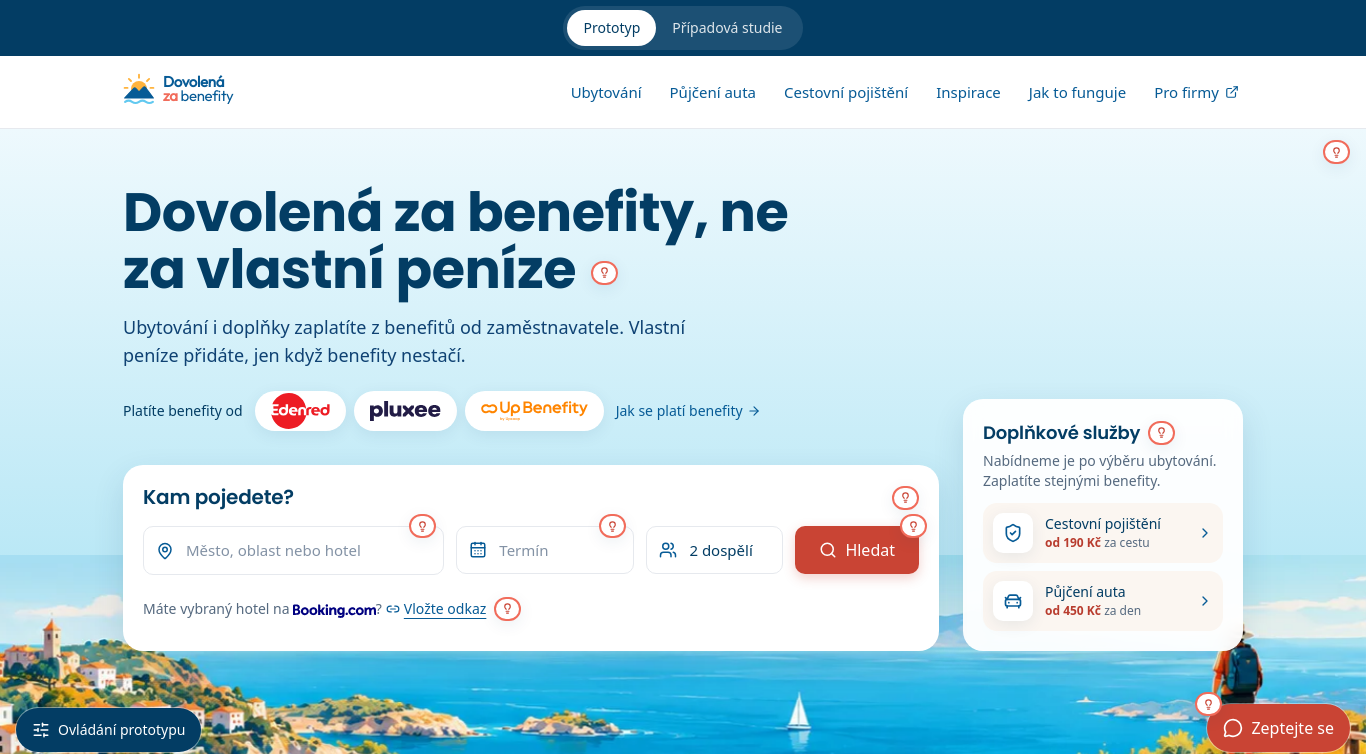
Test: Vyhledávání na úvodní stránce › našeptává hotely podle názvu a pozná vložený odkaz z Booking.com
This screenshot has width=1366, height=754.
Type "zátoka" into the dropdown.
click(309, 551); type("zátoka")  # box [186,527,431,574]
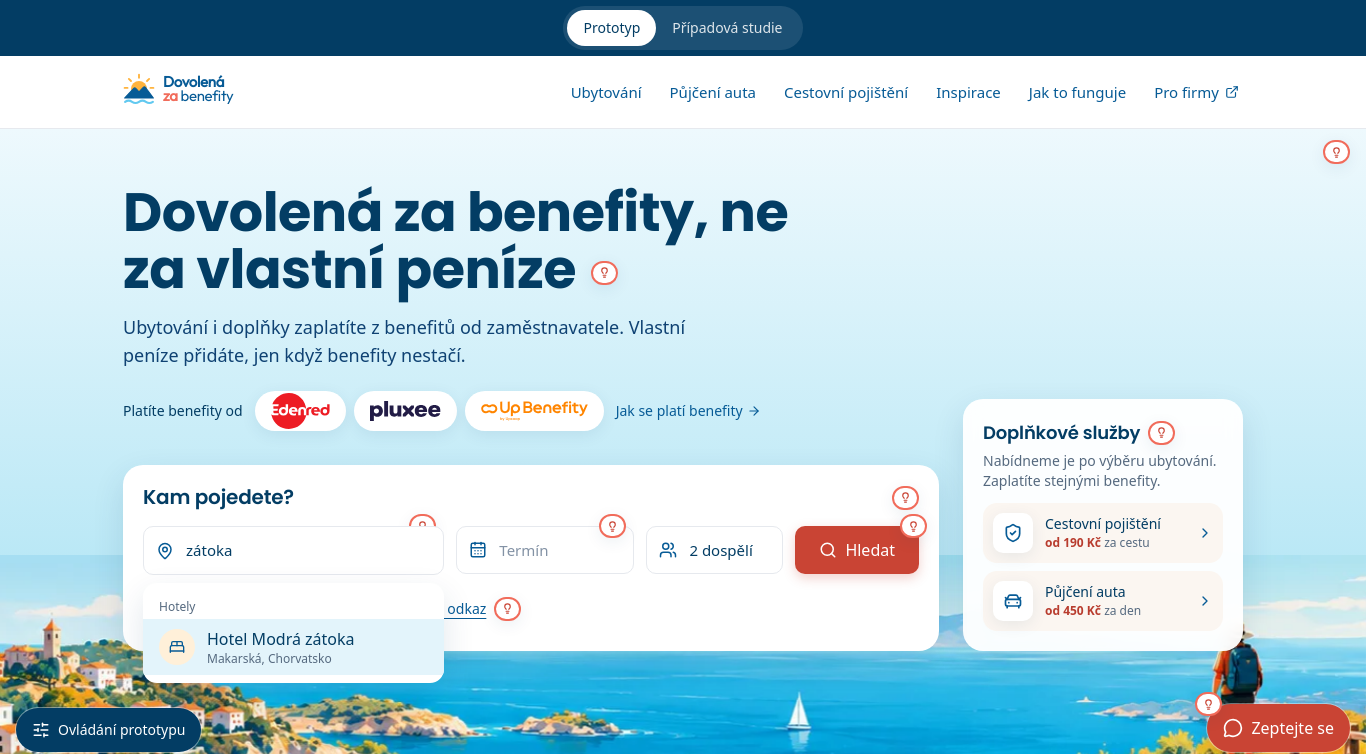
Check: the option "Hotel Modrá zátoka Makarská, Chorvatsko" is shown, box [143,619,444,675]
Replace the text in the dropdown with "https://www.booking.com/hotel/cz/x.html" at (309, 551), box [186,527,431,574]
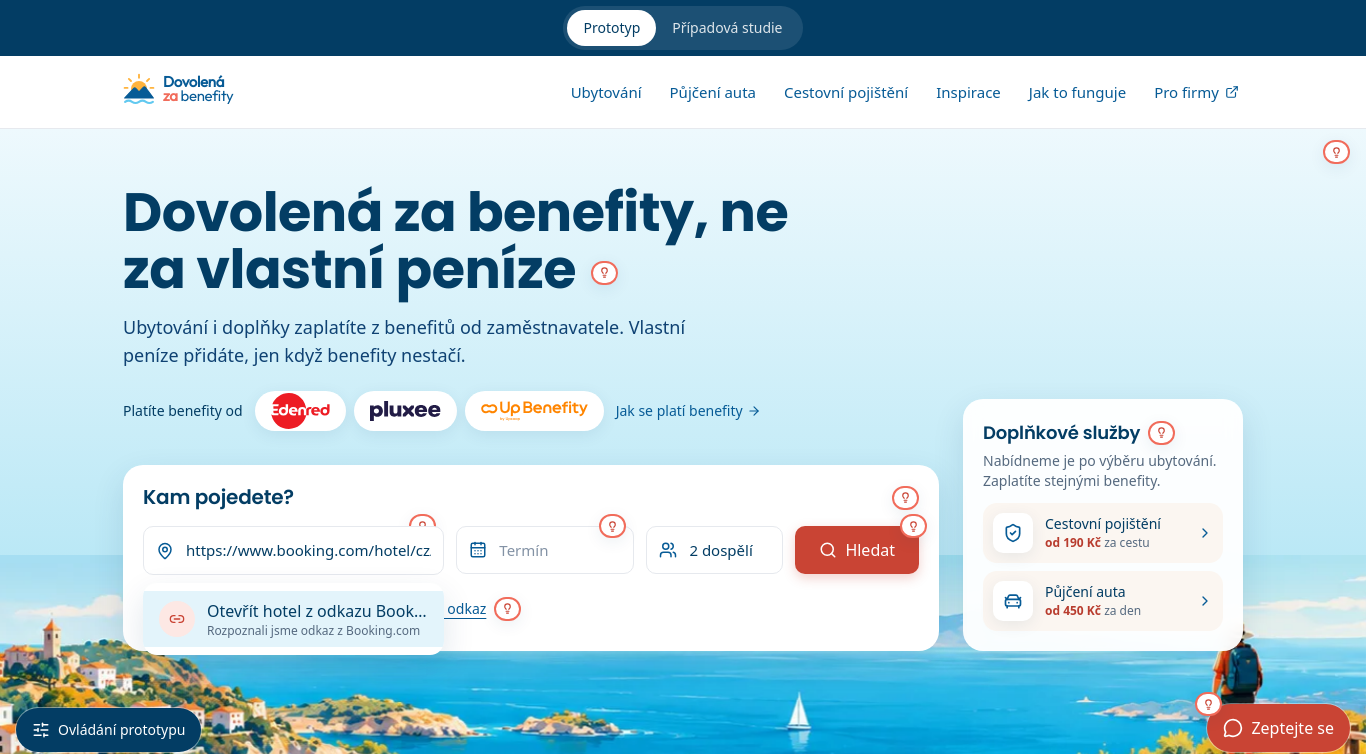
Click the option "Otevřít hotel z odkazu Booking.com".
click(294, 619)  # box [143,591,444,647]
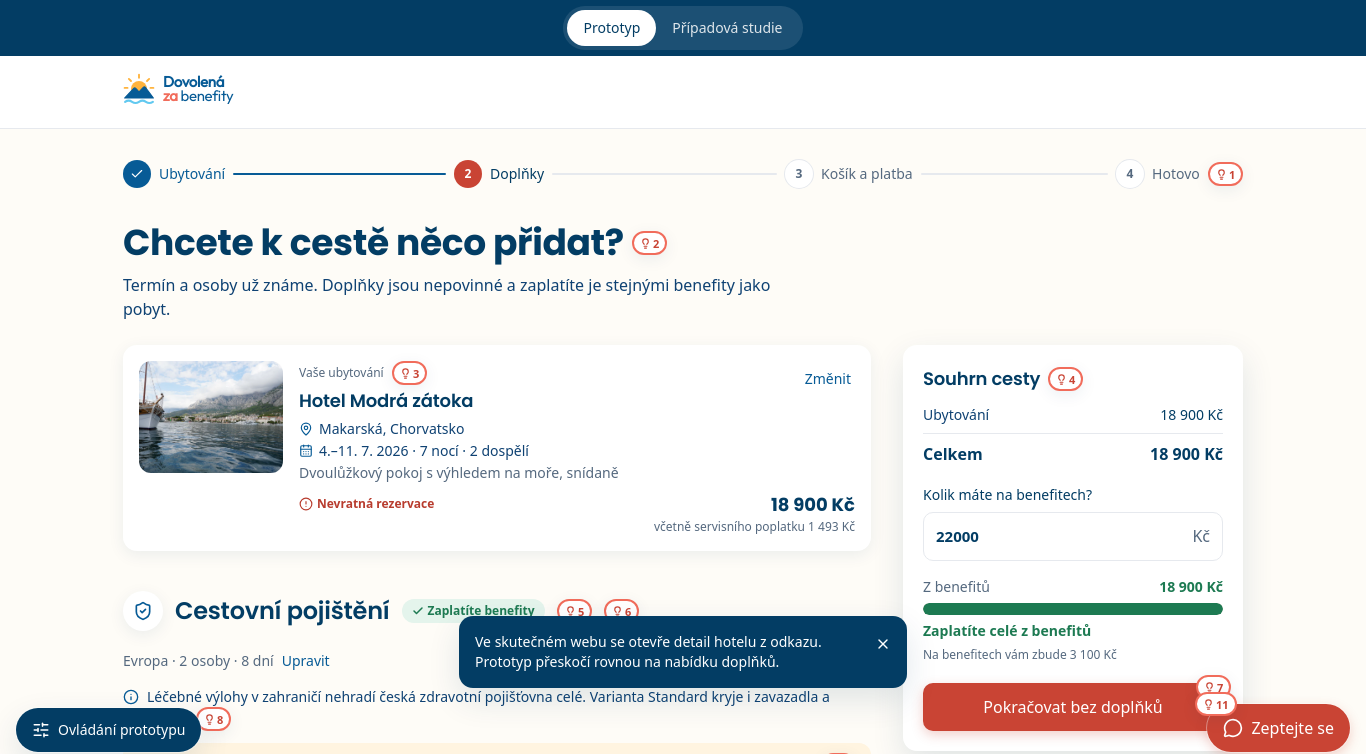
Check: the text "Ve skutečném webu se otevře detail hotelu z odkazu. Prototyp přeskočí rovnou na nabídku doplňků." is shown, box [475,632,822,671]
